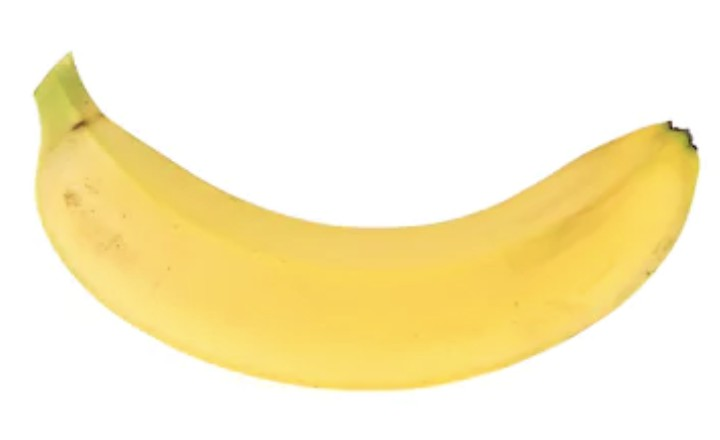fresh_banana: (34, 50, 701, 391)
